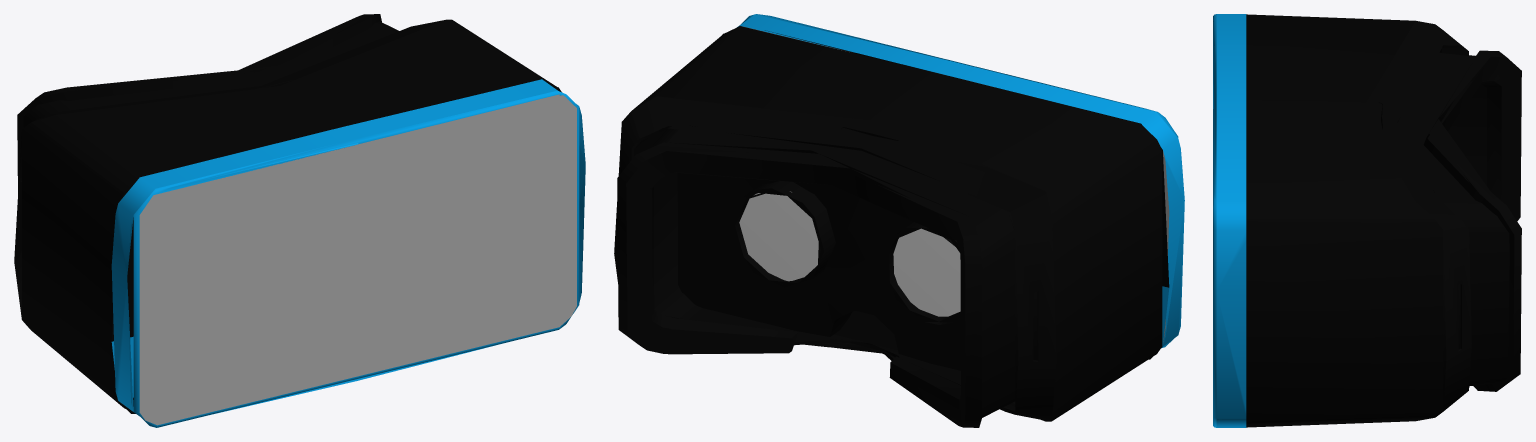
The model's file is VRHMD.fbx.
3 views of the same model, side by side, from view 1: azimuth 30°, elevation 25°; view 2: azimuth 150°, elevation 25°; view 3: azimuth 270°, elevation 25° (orthographic). The views are drawn at different scales.
Parts seen in each view (by area): view 1: HMD; view 2: HMD; view 3: HMD.
Boxes of the visible parts, x1=… form: HMD: x1=14, y1=14, x2=585, y2=427; HMD: x1=614, y1=14, x2=1184, y2=427; HMD: x1=1213, y1=14, x2=1521, y2=427.
Size of the model in its own units: 114 by 57.61 by 69.71.
